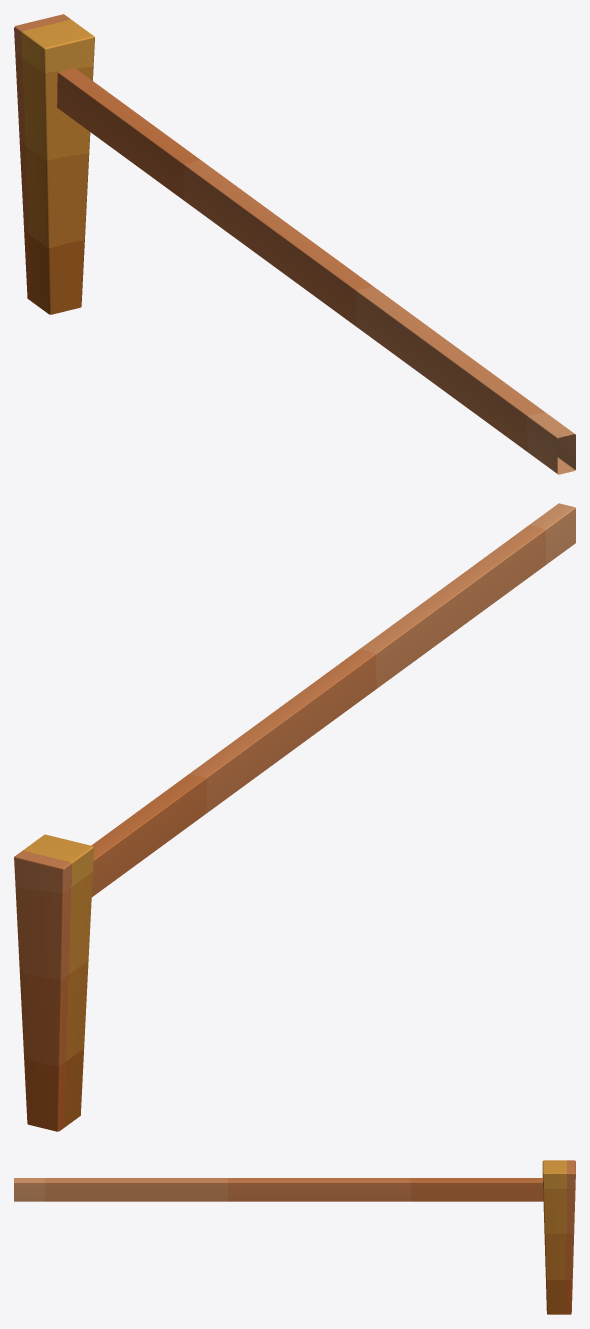
The model's file is SM_Railing.fbx.
The picture shows the model from 3 angles, top to bottom: view 1: azimuth 30°, elevation 25°; view 2: azimuth 150°, elevation 25°; view 3: azimuth 270°, elevation 25°; orthographic projection. The views are drawn at different scales.
Parts seen in each view (by area): view 1: railing_geo; view 2: railing_geo; view 3: railing_geo.
Part boxes in pixels (bbox=[...]): railing_geo: bbox=[14, 14, 575, 474]; railing_geo: bbox=[14, 503, 575, 1131]; railing_geo: bbox=[14, 1160, 575, 1314].
Bounding box in the file's own units: 32.15 × 162 × 575.
1 material, 1 textured.
